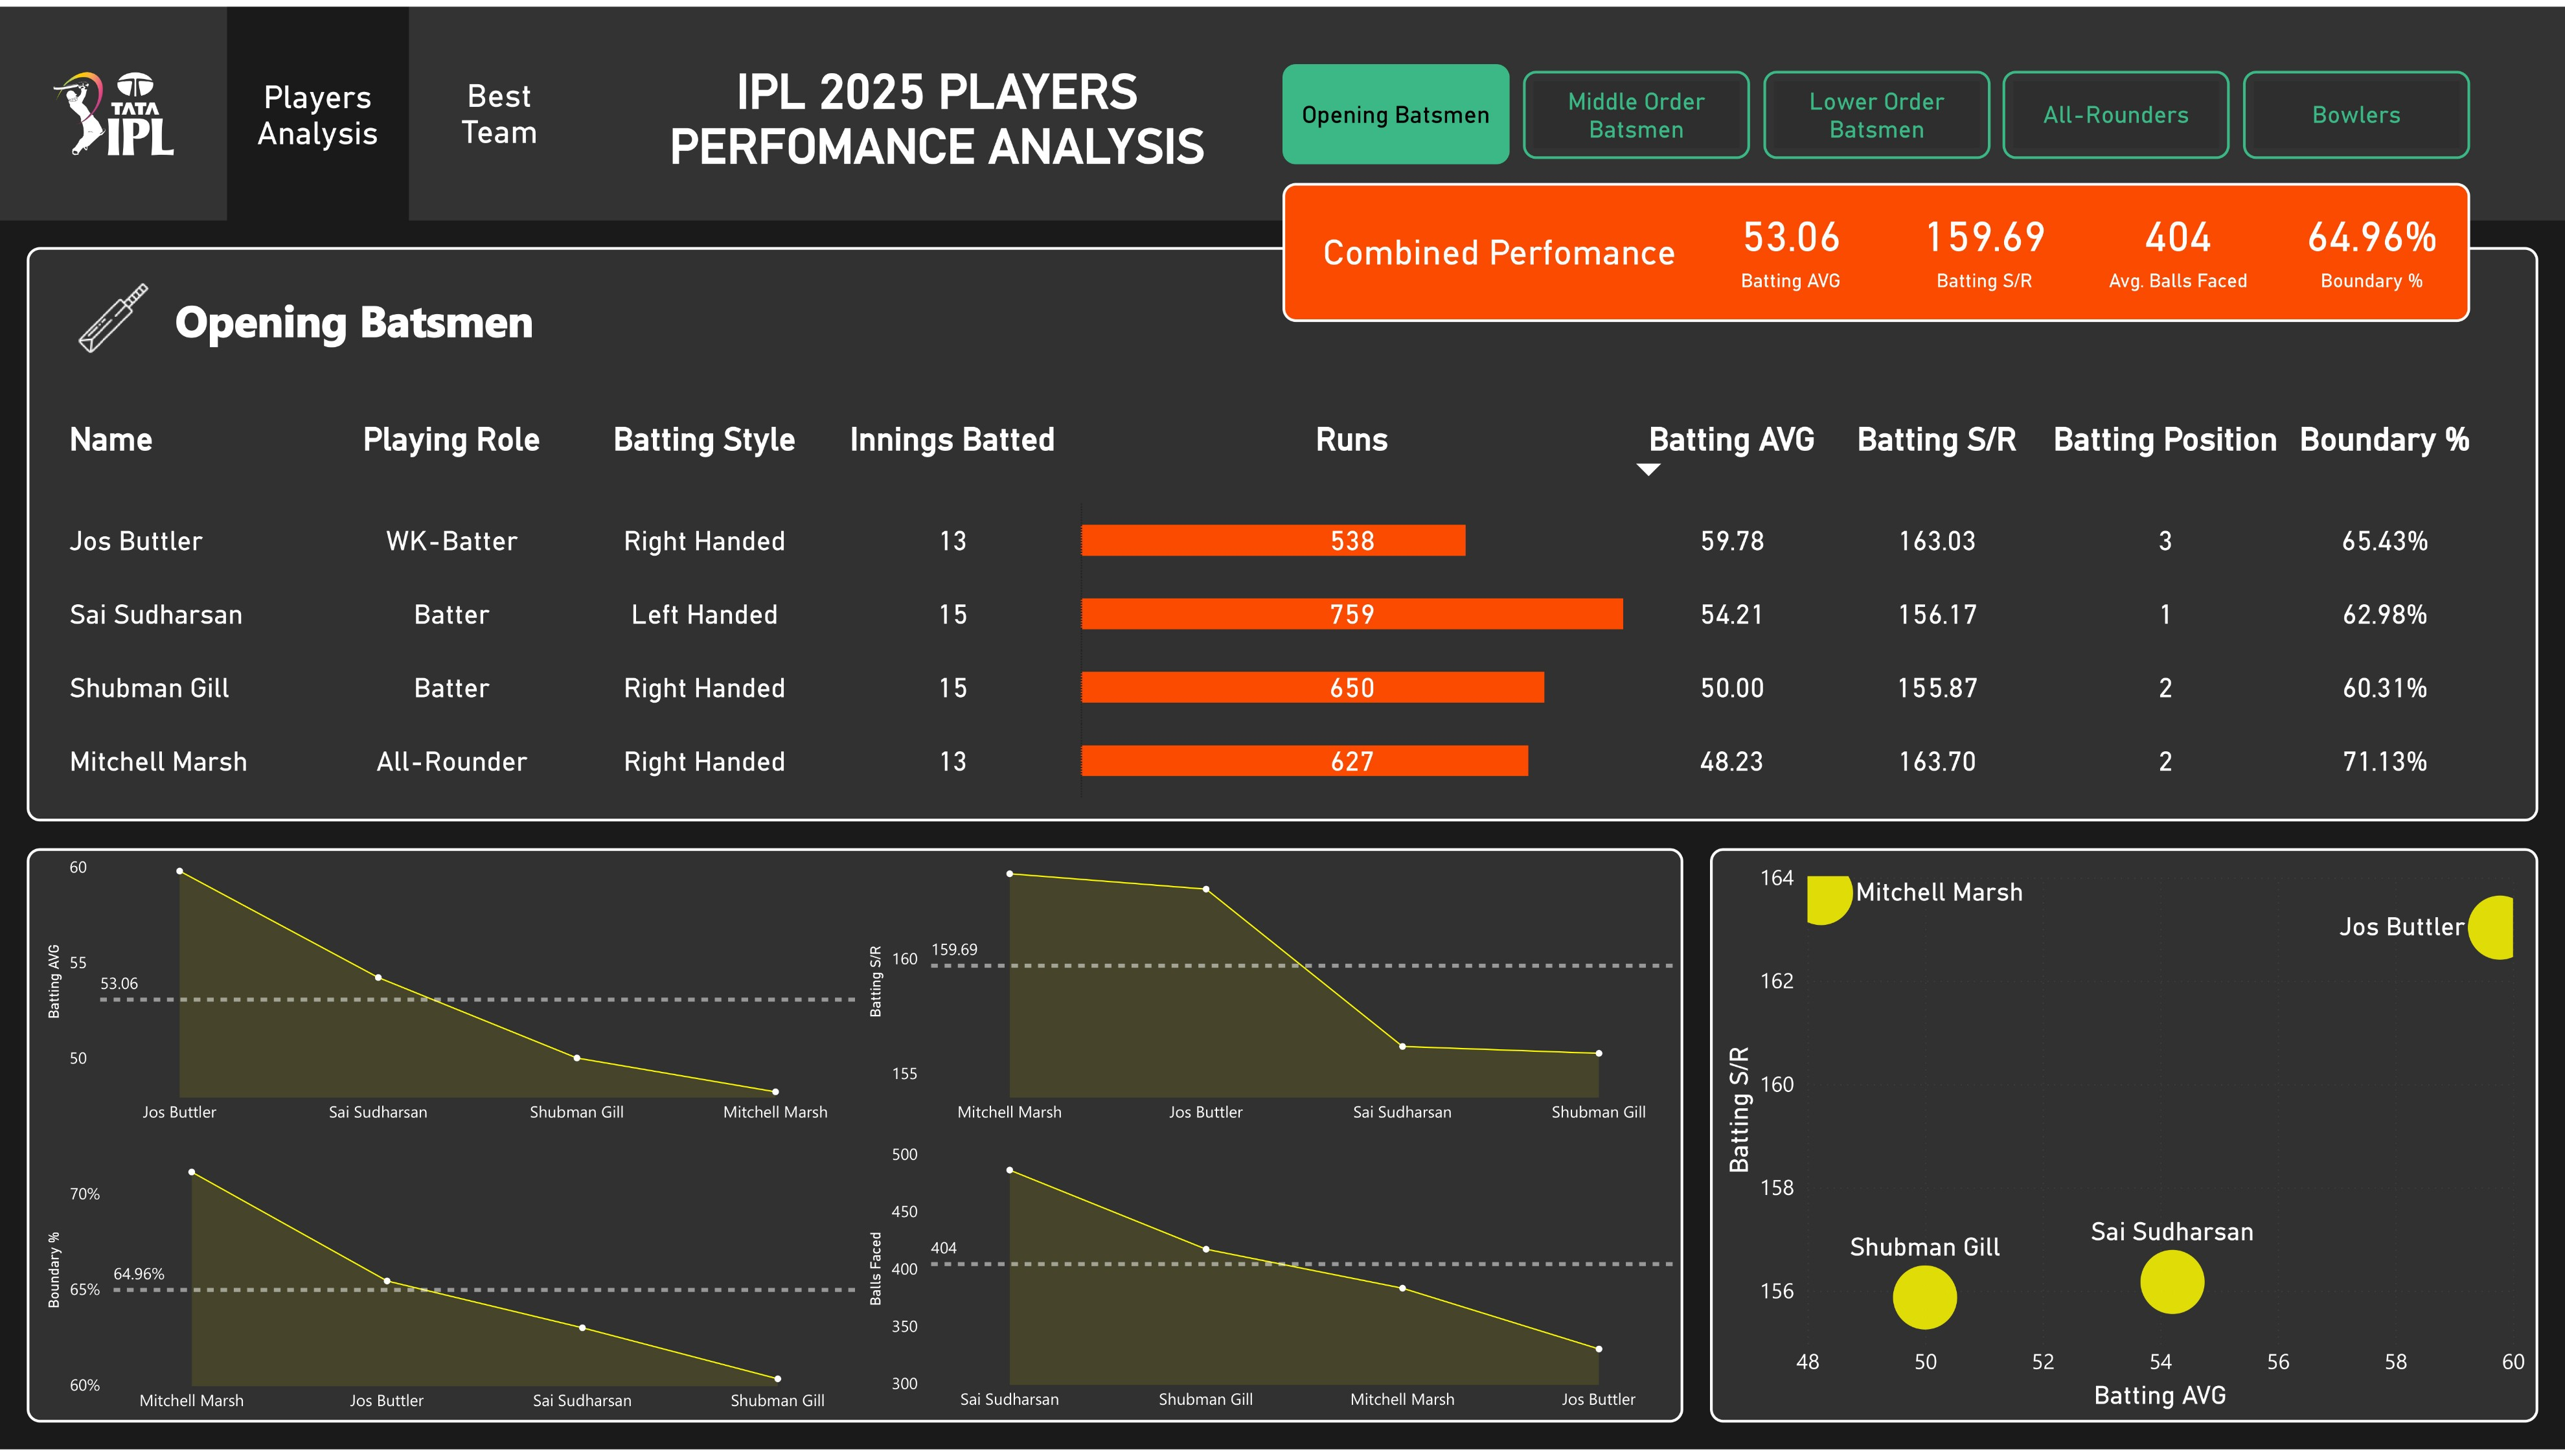

This screenshot's page, from the dashboard's own definition file:
{"tool":"powerbi","page":{"name":"Opening Batsmen","canvas":[1920,1080],"ordinal":0},"visuals":[{"type":"shape","box":[960,132.2,889.3,103.5],"z":0,"group":"g1"},{"type":"cardVisual","fields":{"Data":["Key_Measures.Batting Avg","Key_Measures.Strike Rate","Key_Measures.Balls Faced","Key_Measures.Boundry %"]},"box":[1267.2,136,582.6,91.8],"z":1000,"group":"g1"},{"type":"shape","box":[20,630,1240,430],"z":1000},{"type":"shape","box":[962.7,155.9,319.2,53.2],"z":2000,"group":"g1"},{"type":"shape","box":[20,180,1880,430],"z":2000},{"type":"tableEx","fields":{"Values":["All_Players.Players Name","All_Players.Playing Role","All_Players.Batting Style","Key_Measures.Total Innings Batted","Key_Measures.Total Runs","Key_Measures.Batting Avg","Key_Measures.Strike Rate","Key_Measures.Batting Position","Key_Measures.Boundry %"]},"box":[41.4,288.6,1858.6,321.4],"z":3000},{"type":"scatterChart","title":"Batting Average Vs Strike Rate","fields":{"X":["Batsmen_Records.Batting Average"],"Series":["All_Players.Players Name"],"Y":["Key_Measures.Strike Rate"]},"box":[1280,630,620,430],"z":4000},{"type":"areaChart","title":"Batting Average Vs Strike Rate","fields":{"Category":["All_Players.Players Name"],"Y":["Key_Measures.Batting Avg"]},"box":[30,630,615,215.7],"z":5000},{"type":"areaChart","title":"Batting Average Vs Strike Rate","fields":{"Category":["All_Players.Players Name"],"Y":["Key_Measures.Strike Rate"]},"box":[645,630,615.7,215.7],"z":5500},{"type":"areaChart","title":"Batting Average Vs Strike Rate","fields":{"Category":["All_Players.Players Name"],"Y":["Key_Measures.Boundry %"]},"box":[30,845.7,615.7,215.7],"z":5750},{"type":"areaChart","title":"Batting Average Vs Strike Rate","fields":{"Category":["All_Players.Players Name"],"Y":["Key_Measures.Balls Faced"]},"box":[645,845,615.7,215.7],"z":5875},{"type":"shape","box":[0,0,1920,160],"z":6000},{"type":"shape","box":[442.9,7.1,517.1,152.9],"z":8000},{"type":"group","id":"g1","title":"Group 1","box":[960,132.2,889.8,103.5],"z":9000},{"type":"actionButton","box":[1140,48,170,65.7],"z":11000},{"type":"actionButton","box":[1320,48,170,65.7],"z":12000},{"type":"actionButton","box":[1678.6,48,170,65.7],"z":13000},{"type":"actionButton","box":[1498.6,48,170,65.7],"z":14000},{"type":"actionButton","box":[960,43,170,75],"z":15000},{"type":"actionButton","box":[306,0,135.7,160],"z":16000},{"type":"actionButton","box":[170,0,135.7,161],"z":17000},{"type":"shape","box":[120,200,290.7,67.3],"z":20500},{"type":"image","box":[50,200,70,66.4],"z":21000},{"type":"image","box":[35,30,100,100],"z":21500}]}

Visuals, with their boxes in screenshot pixels (x1, y1, x2, y2), scaled from the page's 1920x1080 canvas onto the 2565x1456 screenshot:
shape: left=1282, top=178, right=2470, bottom=318
cardVisual - Key_Measures.Batting Avg x Key_Measures.Strike Rate: left=1693, top=183, right=2471, bottom=307
shape: left=27, top=849, right=1683, bottom=1429
shape: left=1286, top=210, right=1713, bottom=282
shape: left=27, top=243, right=2538, bottom=823
tableEx - All_Players.Players Name x All_Players.Playing Role: left=55, top=389, right=2538, bottom=823
"Batting Average Vs Strike Rate" scatterChart: left=1710, top=849, right=2538, bottom=1429
"Batting Average Vs Strike Rate" areaChart: left=40, top=849, right=861, bottom=1140
"Batting Average Vs Strike Rate" areaChart: left=861, top=849, right=1684, bottom=1140
"Batting Average Vs Strike Rate" areaChart: left=40, top=1140, right=863, bottom=1431
"Batting Average Vs Strike Rate" areaChart: left=861, top=1139, right=1684, bottom=1430
shape: left=0, top=0, right=2564, bottom=216
shape: left=591, top=10, right=1282, bottom=216
"Group 1" group: left=1282, top=178, right=2471, bottom=318
actionButton: left=1523, top=65, right=1750, bottom=154
actionButton: left=1763, top=65, right=1990, bottom=154
actionButton: left=2242, top=65, right=2470, bottom=154
actionButton: left=2002, top=65, right=2229, bottom=154
actionButton: left=1282, top=58, right=1510, bottom=159
actionButton: left=409, top=0, right=590, bottom=216
actionButton: left=227, top=0, right=409, bottom=217
shape: left=161, top=269, right=549, bottom=360
image: left=67, top=269, right=161, bottom=359
image: left=47, top=40, right=180, bottom=176
